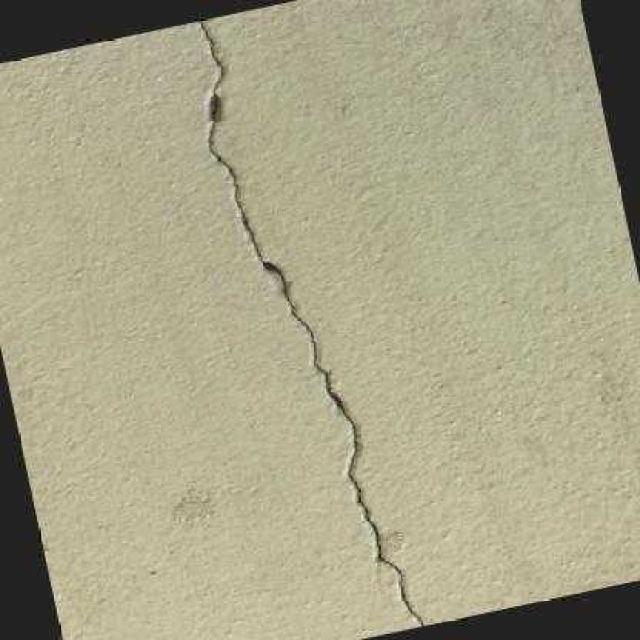D00: (190, 17, 427, 627)
